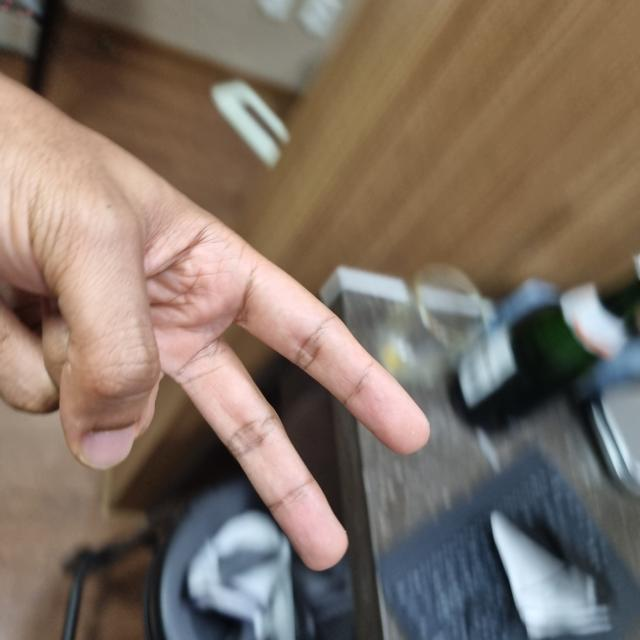Scissors: (2, 109, 422, 562)
